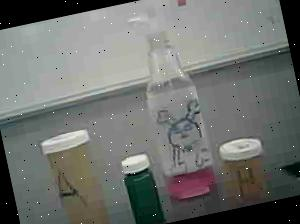Bottle A: (35, 125, 121, 224)
Bottle B: (214, 122, 280, 210)
Bottle C: (115, 145, 170, 224)
hazard: (123, 0, 231, 208)
